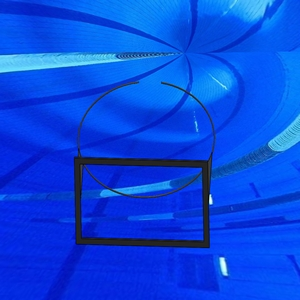circle: (72, 79, 217, 249)
